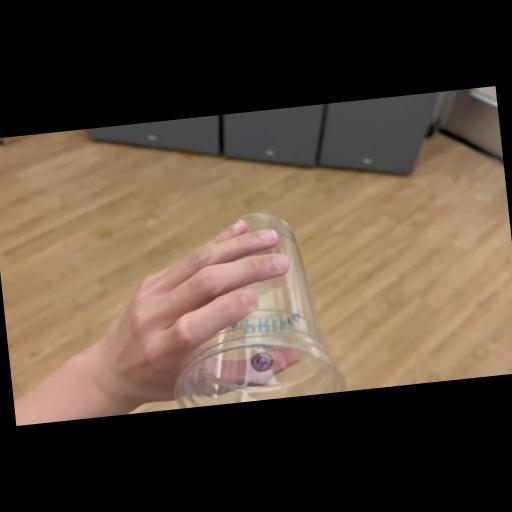lp_plastic_cup: (161, 207, 350, 408)
